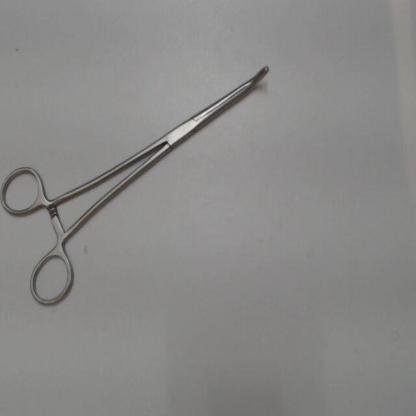Lahey Forceps: (2, 56, 278, 314)
